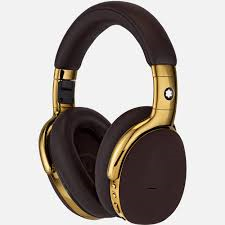headphone: (35, 2, 189, 223)
